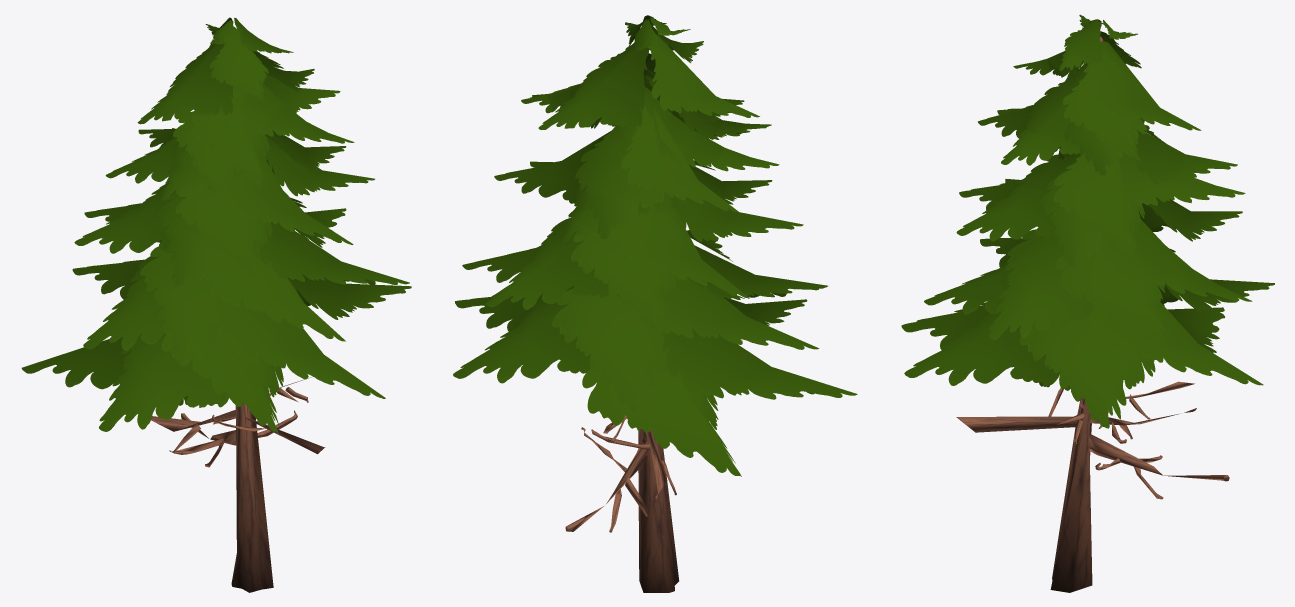
The model's file is Pine_1@lod.gltf.
3 renders of one model, left to right at view 1: azimuth 30°, elevation 25°; view 2: azimuth 150°, elevation 25°; view 3: azimuth 270°, elevation 25°, orthographic. The views are drawn at different scales.
Visible parts, largest first — view 1: Pine_1; view 2: Pine_1; view 3: Pine_1.
Part boxes in pixels (left/top/right/bottom): Pine_1: left=21, top=17, right=411, bottom=592; Pine_1: left=453, top=15, right=857, bottom=592; Pine_1: left=901, top=14, right=1274, bottom=592.
Size of the model in its own units: 4.94 by 7.32 by 4.54.
2 materials, 2 textured.
